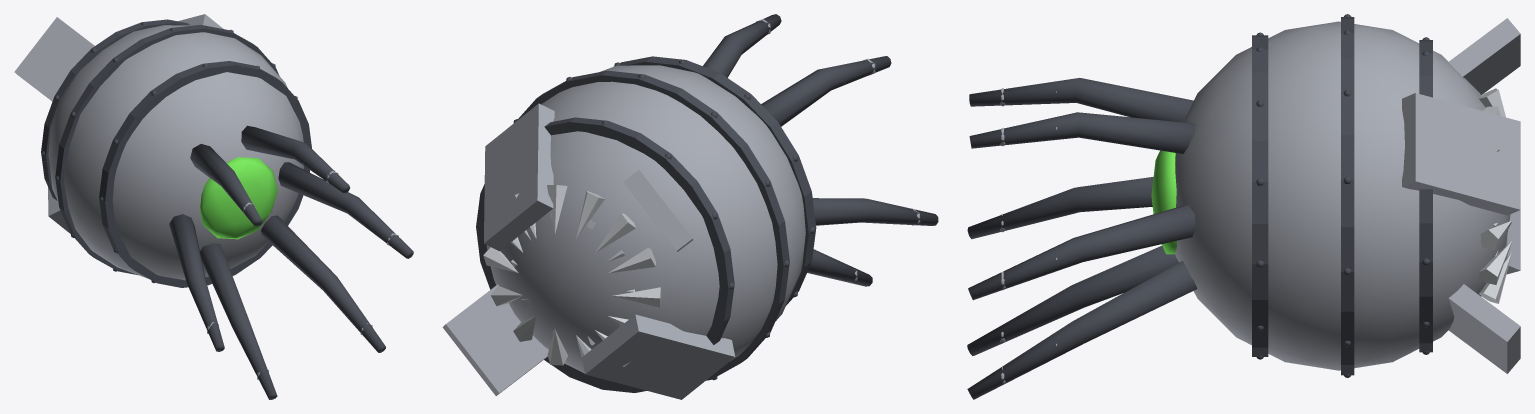
The model's file is spazmatism_open.glb.
3 renders of one model, left to right at view 1: azimuth 30°, elevation 25°; view 2: azimuth 150°, elevation 25°; view 3: azimuth 270°, elevation 25°, orthographic. The views are drawn at different scales.
Visible parts, largest first — view 1: twin_lens_flare_open; view 2: twin_lens_flare_open; view 3: twin_lens_flare_open.
Part boxes in pixels (x1,y1,x2,y2): twin_lens_flare_open: (14, 14, 413, 399); twin_lens_flare_open: (442, 14, 938, 399); twin_lens_flare_open: (967, 14, 1520, 399).
Bounding box in the file's own units: 2.72 × 2.89 × 4.12.
